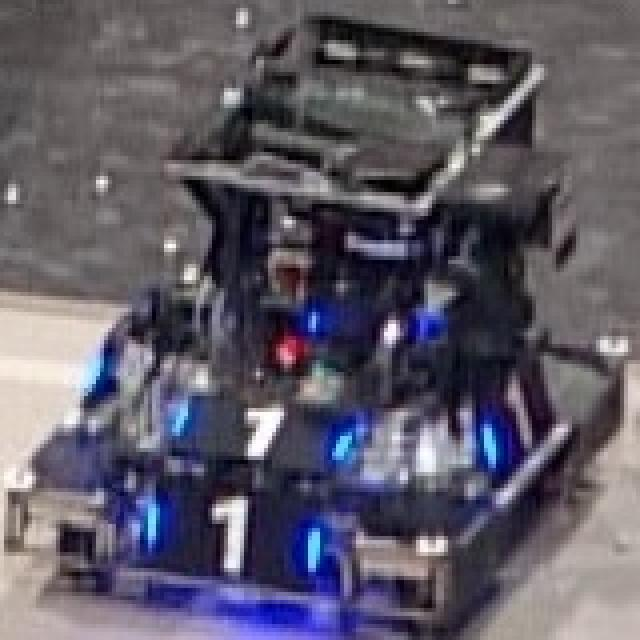B1: (140, 492, 320, 576), (168, 400, 352, 464)
